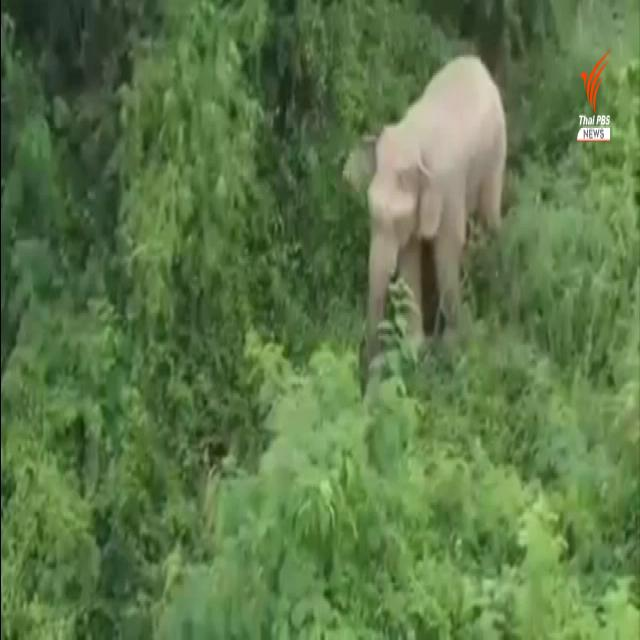Elephant: (353, 30, 525, 367)
